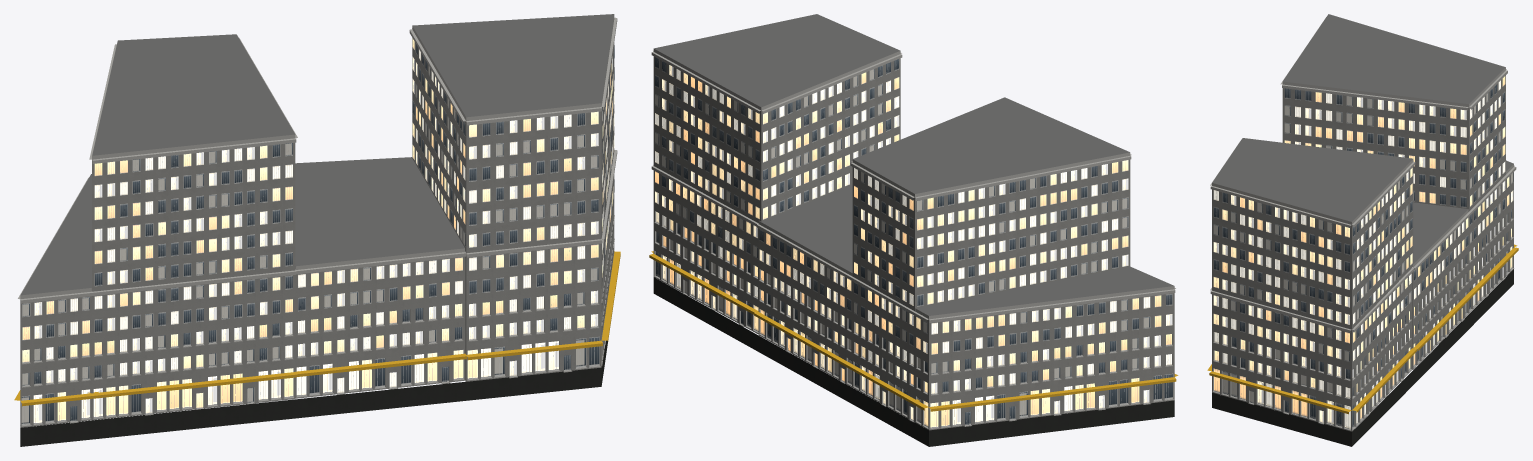
The model's file is europa_grau.glb.
The picture shows the model from 3 angles, left to right: view 1: azimuth 30°, elevation 25°; view 2: azimuth 150°, elevation 25°; view 3: azimuth 270°, elevation 25°; orthographic projection. The views are drawn at different scales.
Parts seen in each view (by area): view 1: europa_grau; view 2: europa_grau; view 3: europa_grau.
Part boxes in pixels (x1,y1,x2,y2): europa_grau: (14,14,620,446); europa_grau: (649,14,1178,446); europa_grau: (1207,14,1518,446).
Size of the model in its own units: 99.77 by 44.54 by 55.88.
Materials: 3 (3 with a texture image).
